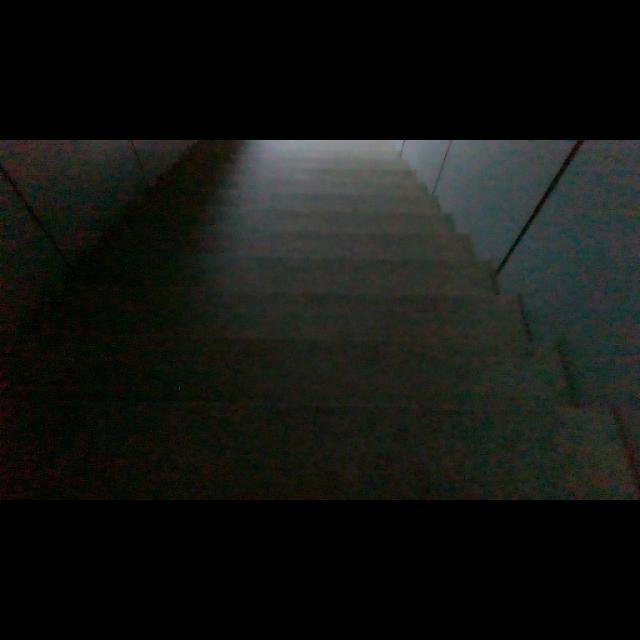stair: (49, 141, 629, 486)
